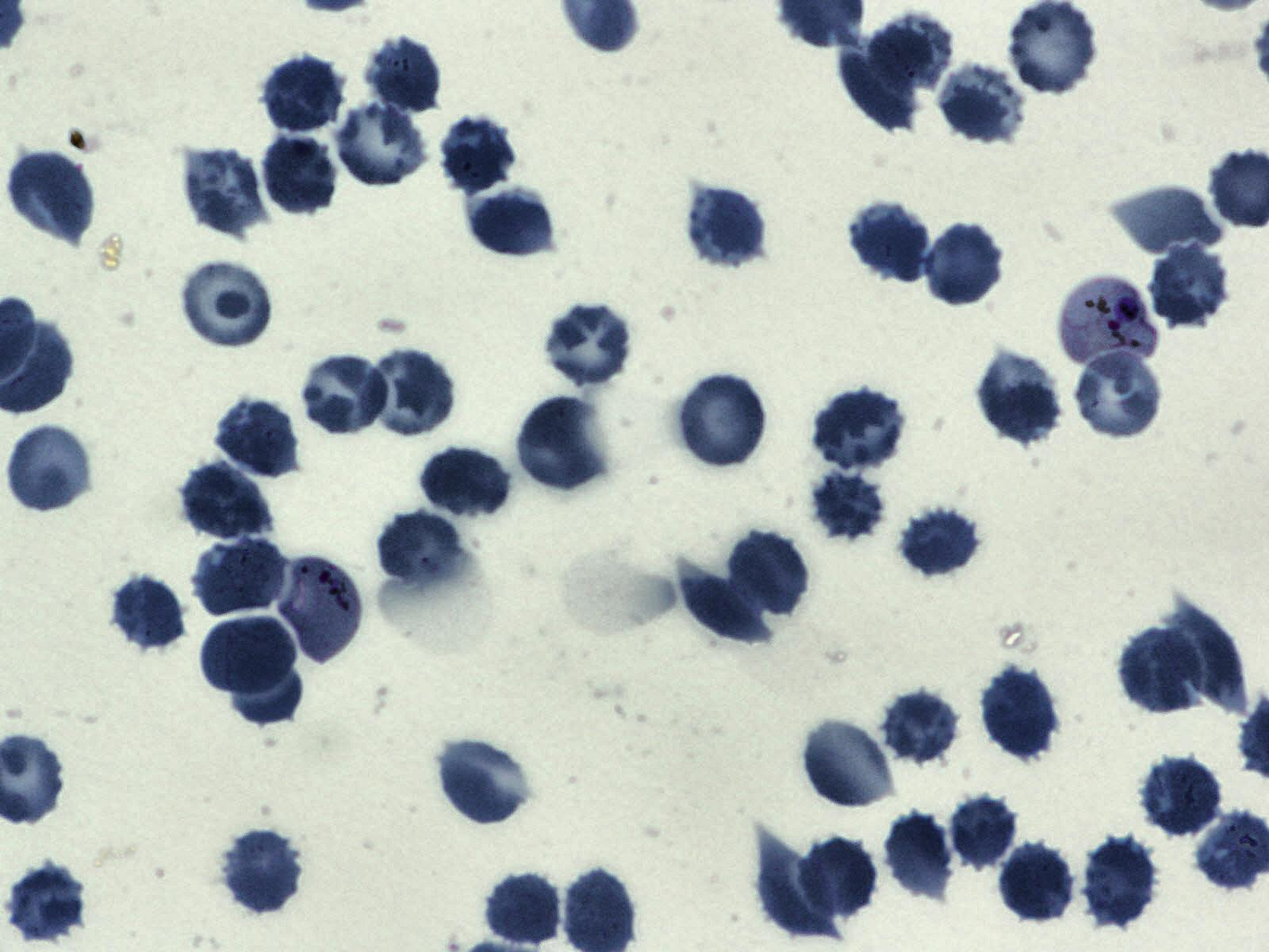Infected: (1059, 278, 1156, 378), (280, 557, 362, 665)
Uninfected: (1161, 597, 1248, 714), (757, 825, 839, 939), (178, 255, 273, 351), (677, 370, 768, 470), (516, 397, 608, 492), (334, 99, 430, 188), (1111, 184, 1221, 261), (801, 718, 895, 808), (1074, 347, 1164, 441), (366, 347, 455, 439), (811, 386, 907, 470), (1010, 0, 1095, 94), (543, 302, 634, 389), (436, 737, 528, 823), (376, 509, 469, 594), (677, 559, 771, 643), (6, 424, 93, 513), (227, 628, 304, 728), (8, 152, 94, 240), (301, 352, 390, 437), (836, 40, 920, 130), (194, 535, 286, 616), (202, 615, 296, 694), (179, 461, 270, 541), (867, 12, 952, 96), (978, 355, 1060, 442), (185, 146, 266, 233), (982, 670, 1059, 760), (1082, 839, 1158, 928), (1119, 628, 1200, 711), (939, 61, 1024, 140), (884, 812, 958, 902), (1148, 245, 1230, 326), (468, 184, 555, 260), (421, 446, 510, 520), (728, 532, 809, 613), (262, 56, 345, 135), (110, 570, 186, 656), (258, 133, 335, 217), (686, 186, 765, 267), (222, 831, 301, 912), (1144, 756, 1223, 837), (217, 399, 299, 477), (851, 201, 931, 280), (6, 862, 86, 941), (877, 689, 953, 770), (929, 223, 1003, 306), (999, 843, 1075, 923), (365, 38, 442, 115), (804, 836, 878, 916), (487, 872, 563, 947), (809, 468, 887, 541), (903, 504, 980, 575), (439, 117, 511, 192), (950, 793, 1020, 870)
